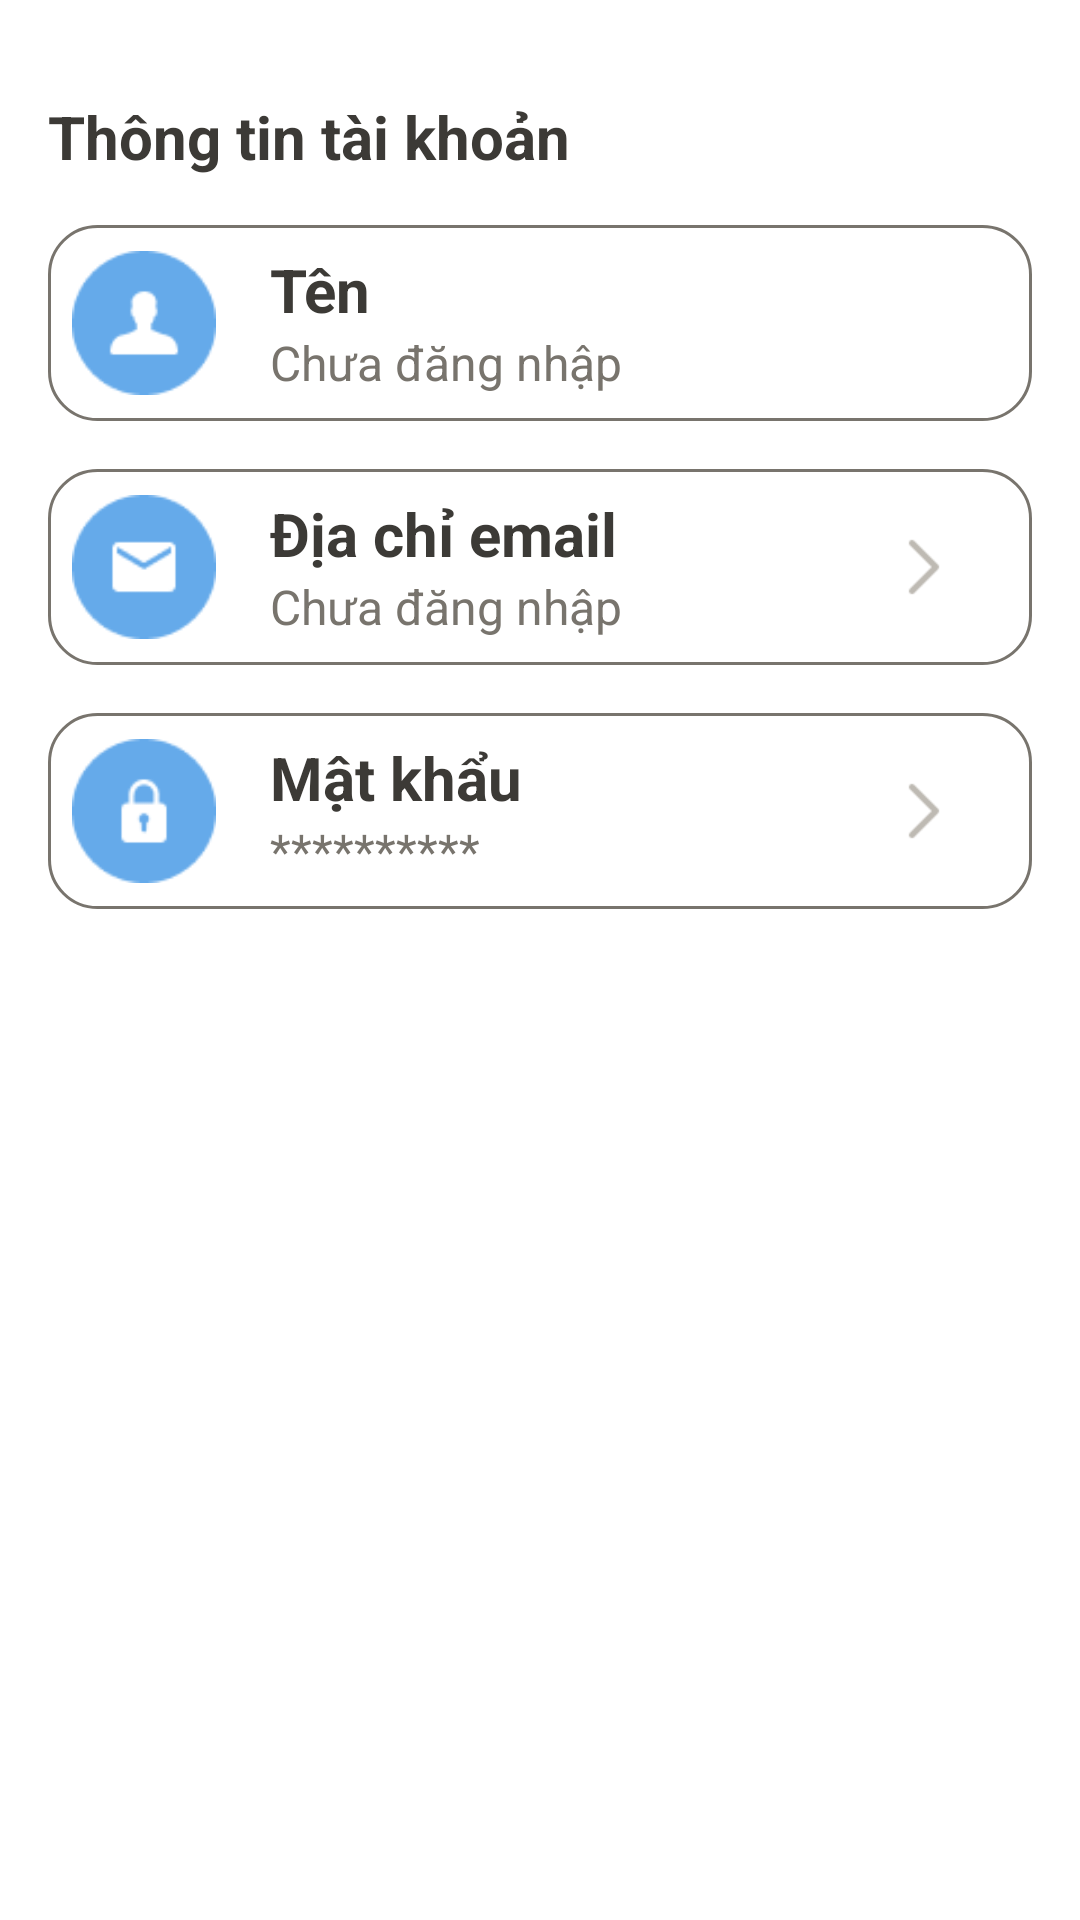

Icon click points for this 1080 × 1920 phone screenshot, format [x,y]:
mail setting: [144,567]
next setting: [924,567], [924,811]
pass setting: [144,811]
